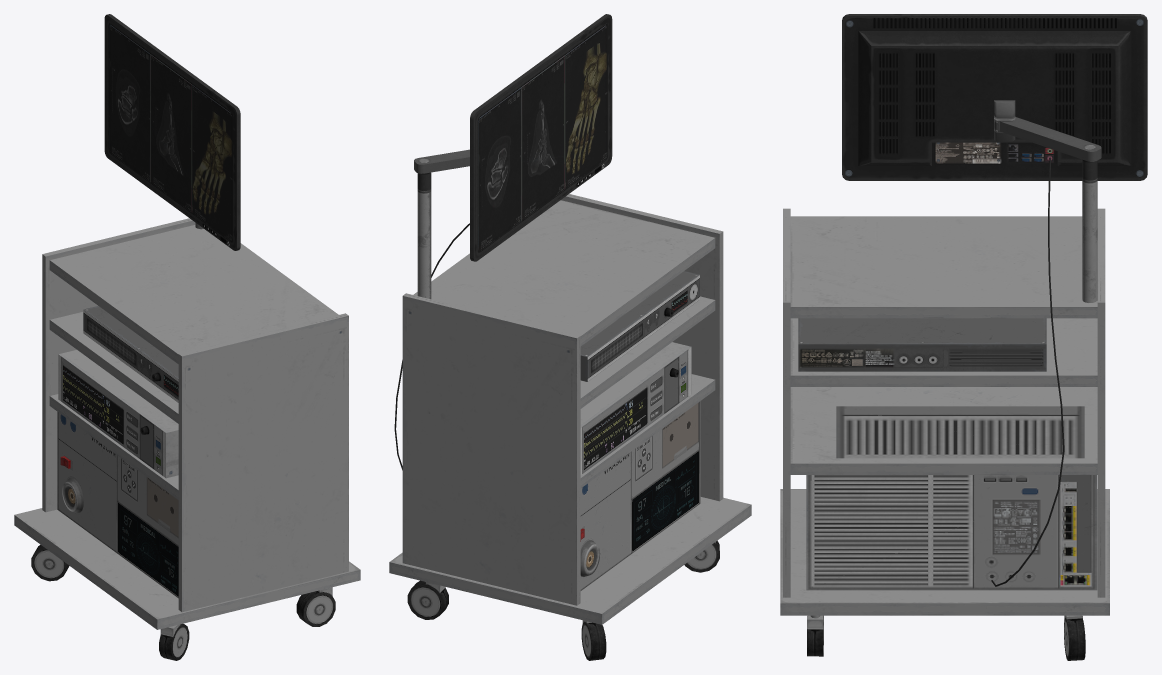
File: HH_Endoscopic_Complex_01.fbx
3 views of the same model, side by side, from view 1: azimuth 30°, elevation 25°; view 2: azimuth 150°, elevation 25°; view 3: azimuth 270°, elevation 25° (orthographic). The views are drawn at different scales.
Parts seen in each view (by area): view 1: HH_Endoscopic_Complex_01_LOD0; view 2: HH_Endoscopic_Complex_01_LOD0; view 3: HH_Endoscopic_Complex_01_LOD0.
Part boxes in pixels (x1,y1,x2,y2): HH_Endoscopic_Complex_01_LOD0: [14, 14, 360, 660]; HH_Endoscopic_Complex_01_LOD0: [389, 14, 751, 660]; HH_Endoscopic_Complex_01_LOD0: [780, 14, 1147, 660].
Size of what is drawn, in the model's own units: 66.79 by 150 by 82.66.
